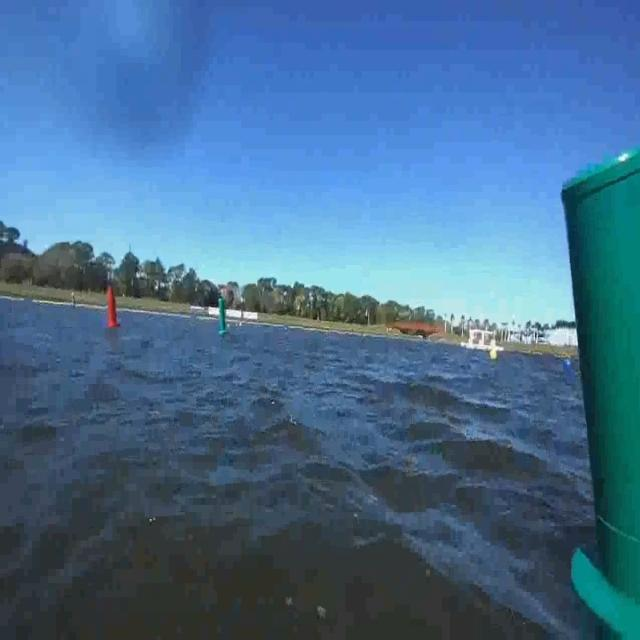green-column-buoy: (541, 160, 640, 640), (216, 287, 233, 348)
red-buoy: (103, 285, 122, 335)
